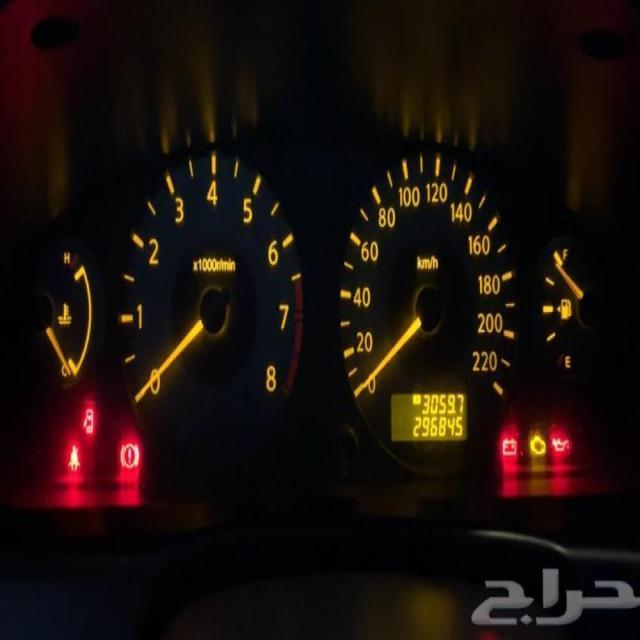Seat Belt: (68, 445, 80, 472)
